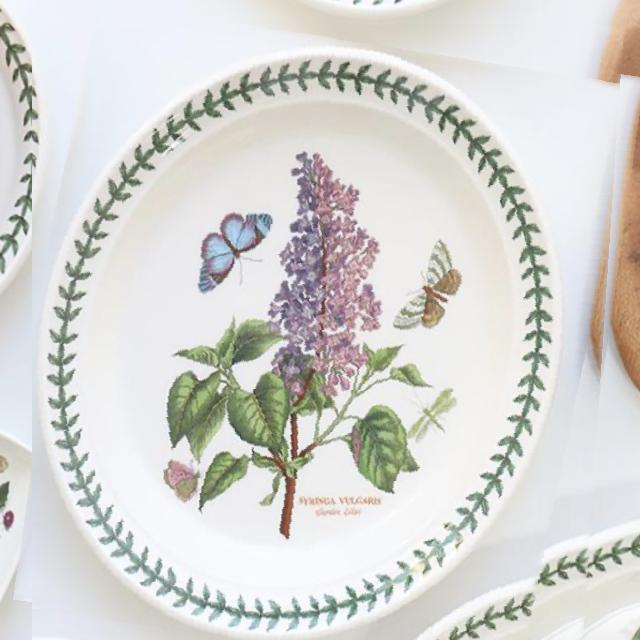recyclable: (32, 17, 624, 640)
